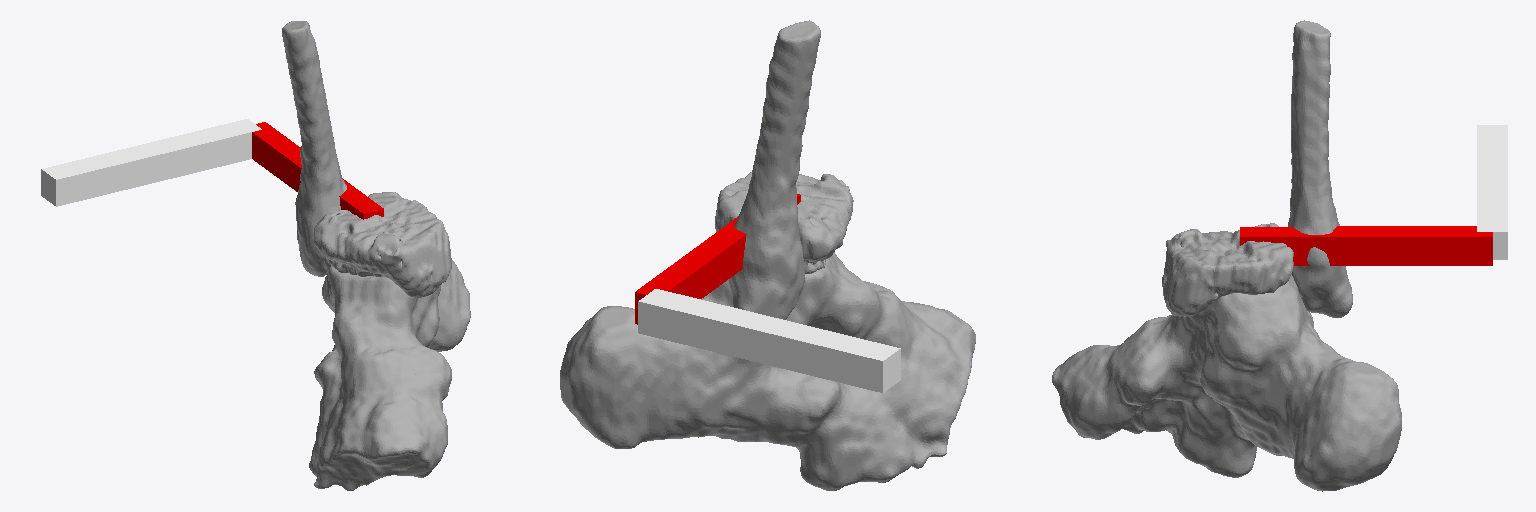
The robot description file, URDF, robot "L_shaped_tool":
<?xml version="1.0" ?>
<robot name="L_shaped_tool">

  <!-- Root link -->
  <link name="moving_link">
    <inertial>
      <mass value="0.276" />
      <origin xyz="0 0 0" rpy="0 0 0"/>
      <inertia ixx="0.0004" ixy="0.0" ixz="0.0" iyy="0.0004" iyz="0.0" izz="0.0004" />
    </inertial>
    <visual>
      <origin rpy="0 0 0" xyz="0 0 0" />
      <geometry><mesh filename="distal_2522.obj" scale="1 1 1" /></geometry>
      <material name="grey"><color rgba="0.7 0.7 0.7 1"/></material>
    </visual>
    <collision>
      <origin rpy="0 0 0" xyz="0 0 0" />
      <geometry><mesh filename="distal_252_vhacd.obj" scale="1 1 1" /></geometry>
    </collision>
  </link>

  <joint name="ankle_mount_joint" type="fixed">
    <parent link="moving_link"/>
    <child link="pin_link"/>
    <origin xyz="0 0.08 0.03" rpy="-1.57 0 0"/>
  </joint>

  <link name="pin_link">
    <inertial>
      <origin xyz="0 0 -0.04" rpy="0 0 0"/>
      <mass value="0.01"/> <inertia ixx="0.0001" ixy="0" ixz="0" iyy="0.0001" iyz="0" izz="0.0001"/>
    </inertial>
    <visual>
      <origin xyz="0 0 -0.04" rpy="0 0 0"/>
      <geometry><box size="0.008 0.01 0.08"/></geometry>
      <material name="red"><color rgba="1 0 0 1"/></material>
    </visual>
    <collision>
      <origin xyz="0 0 -0.04" rpy="0 0 0"/>
      <geometry><box size="0.008 0.01 0.08"/></geometry>
    </collision>
  </link>

  <joint name="load_cell_joint" type="fixed">
    <parent link="pin_link"/>
    <child link="base_link"/>
    <origin xyz="0 0 0" rpy="0 0 0"/>
  </joint>

  <link name="base_link">
    <inertial>
      <origin xyz="-0.04 0 0" rpy="0 0 1.57"/>
      <mass value="0.01"/> <inertia ixx="0.0001" ixy="0" ixz="0" iyy="0.0001" iyz="0" izz="0.0001"/>
    </inertial>
    <visual>
      <origin xyz="-0.04 -0.0 0" rpy="0 0 1.57"/>
      <geometry><box size="0.01 0.08 0.01"/></geometry>
      <material name="white"><color rgba="1 1 1 1"/></material>
    </visual>
    <collision>
      <origin xyz="-0.04 0 0" rpy="0 0 1.57"/>
      <geometry><box size="0.01 0.08 0.01"/></geometry>
    </collision>
  </link>

</robot>

--- What the picture shows (computed from the rendered views, not written in the file) ---
Views: 3 orthographic renders of the robot side by side, from view 1: azimuth 30°, elevation 25°; view 2: azimuth 150°, elevation 25°; view 3: azimuth 270°, elevation 25°.
Model L_shaped_tool with 3 links and 2 joints (2 fixed), rooted at moving_link, posed every joint at zero.
Visible links, largest first — view 1: moving_link, base_link, pin_link; view 2: moving_link, base_link, pin_link; view 3: moving_link, pin_link, base_link.
Link boxes in pixels (bbox=[...]): moving_link: bbox=[282, 21, 470, 490]; base_link: bbox=[41, 119, 261, 206]; pin_link: bbox=[252, 122, 383, 219]; moving_link: bbox=[560, 20, 975, 490]; base_link: bbox=[638, 289, 900, 392]; pin_link: bbox=[635, 194, 800, 324]; moving_link: bbox=[1052, 20, 1401, 491]; pin_link: bbox=[1240, 226, 1492, 265]; base_link: bbox=[1477, 125, 1507, 259].
Bounding box of the posed robot: 0.1335 × 0.1449 × 0.1548 m (x, y, z).
Meshes: 1 distinct files referenced, 1 mesh visuals loaded (1 OBJ).
